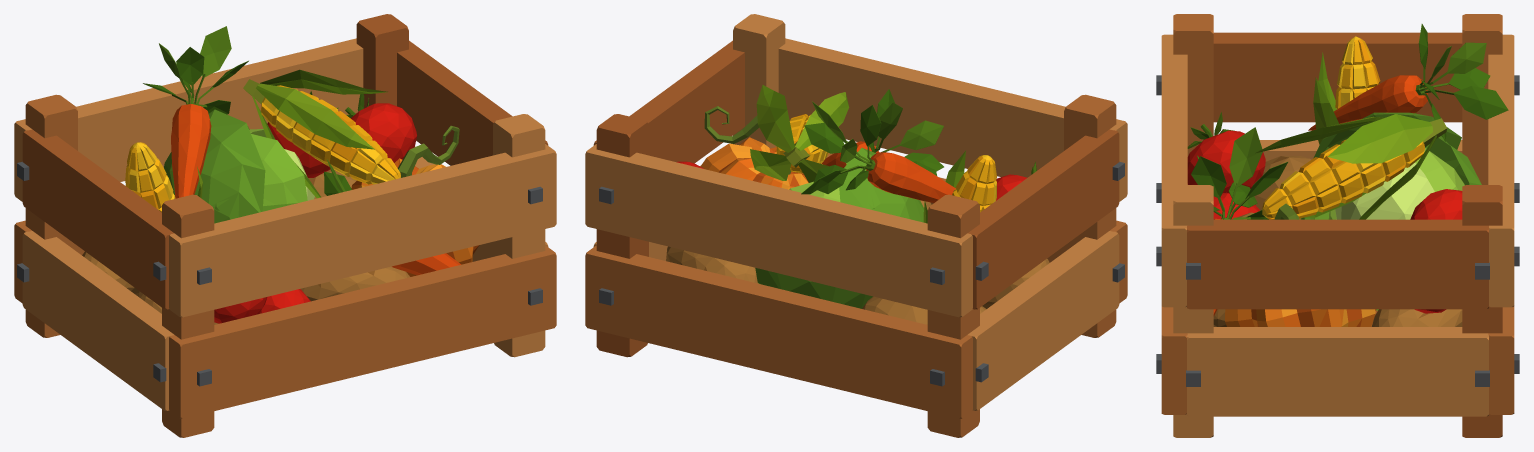
The model's file is Filled Vegetable Crate.glb.
The picture shows the model from 3 angles, left to right: view 1: azimuth 30°, elevation 25°; view 2: azimuth 150°, elevation 25°; view 3: azimuth 270°, elevation 25°; orthographic projection. The views are drawn at different scales.
Visible parts, largest first — view 1: Filled Vegetable Crate; view 2: Filled Vegetable Crate; view 3: Filled Vegetable Crate.
Part boxes in pixels (x1,y1,x2,y2): Filled Vegetable Crate: [14, 14, 556, 437]; Filled Vegetable Crate: [585, 14, 1127, 437]; Filled Vegetable Crate: [1156, 14, 1519, 437].
Size of the model in its own units: 0.6 by 0.4012 by 0.453.
